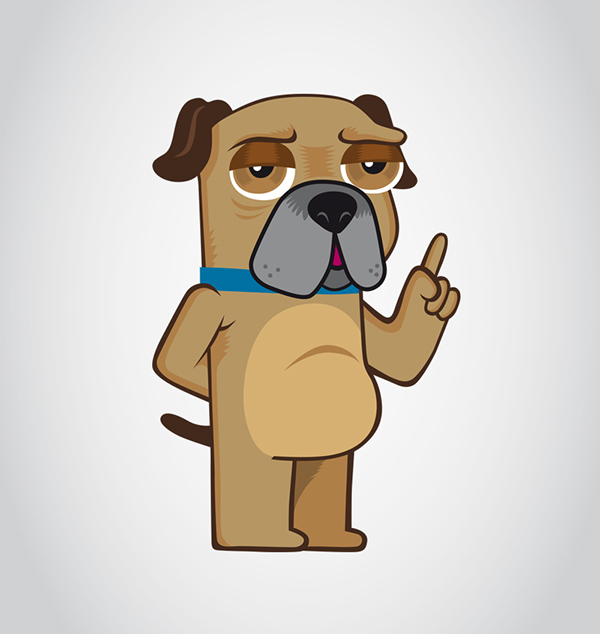dog: (129, 74, 513, 604)
